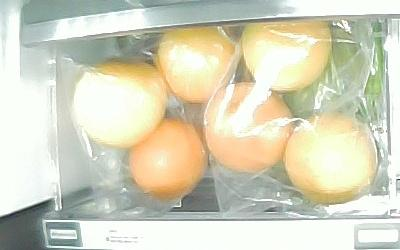grapefruit_vinyl: (282, 110, 379, 206), (205, 83, 296, 175), (74, 58, 166, 148), (126, 119, 207, 202), (241, 22, 334, 93), (157, 28, 236, 103)
